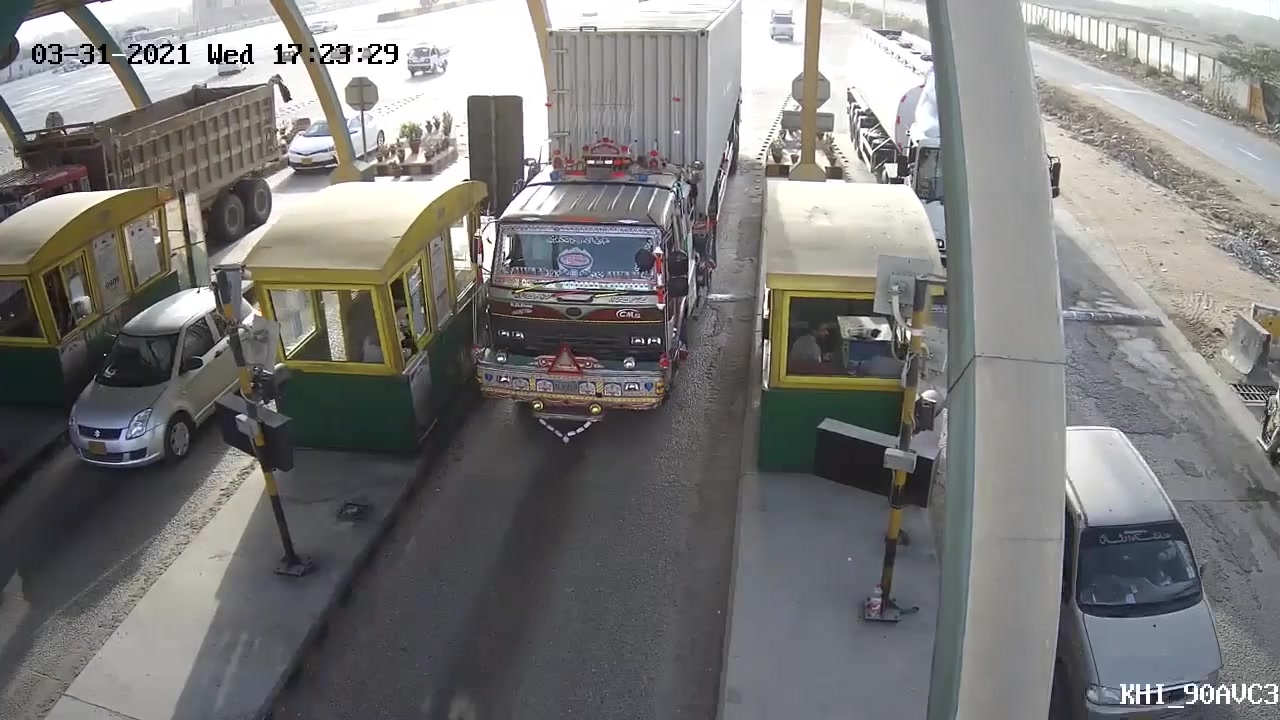F6: (470, 1, 750, 425)
